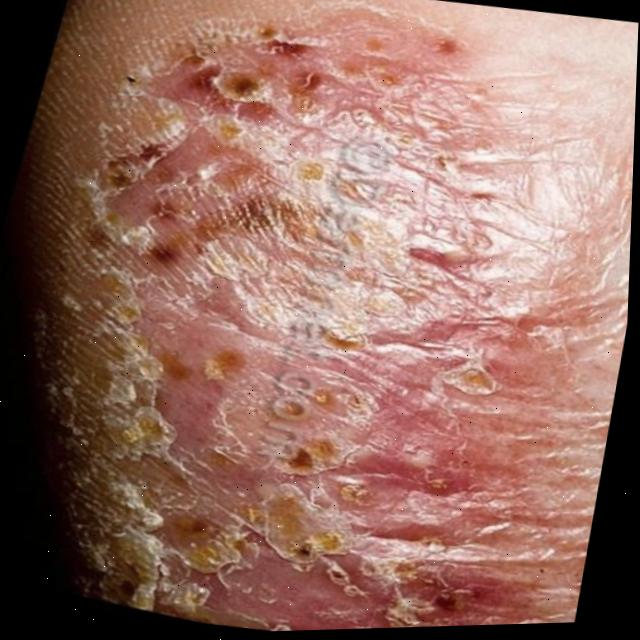Eczema: (6, 0, 622, 639)
